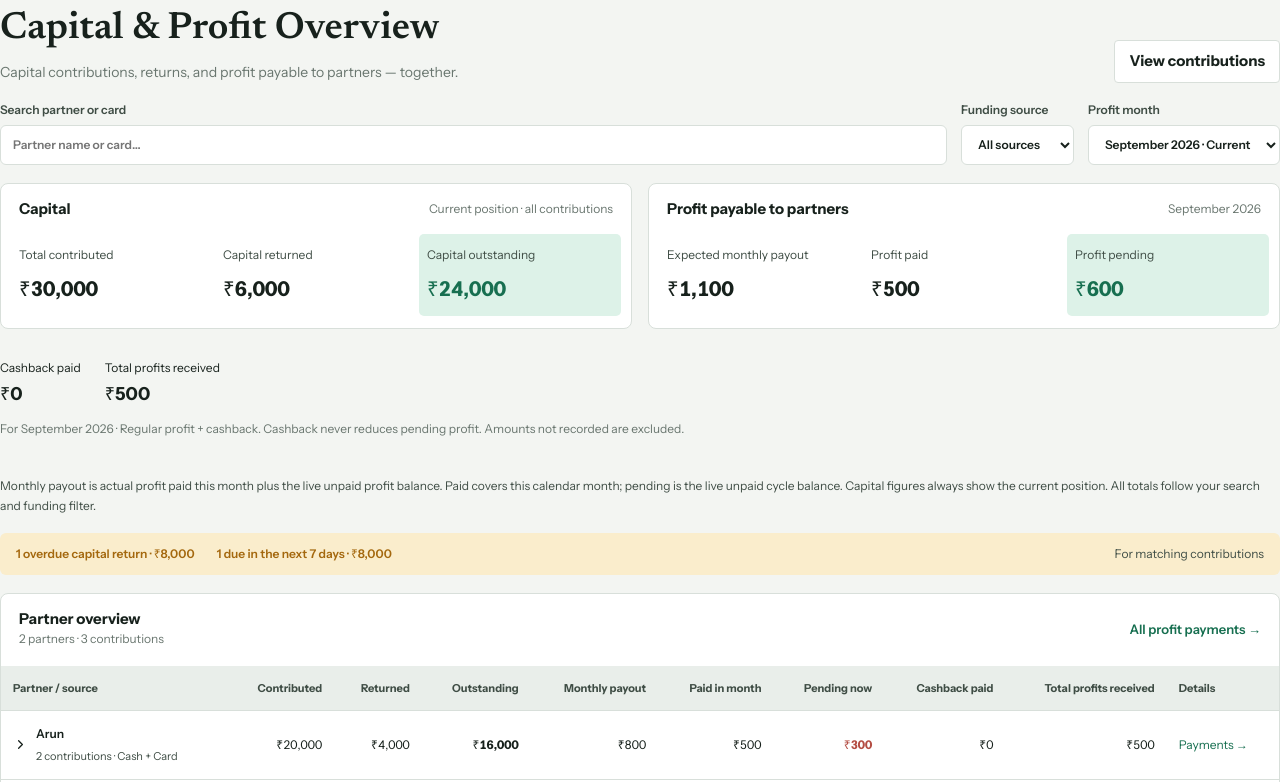
combines capital and profit by partner and keeps source/search totals aligned
Select "Credit card" in the dropdown labelled "Funding source" at (1018, 145), box [961,125,1074,165]
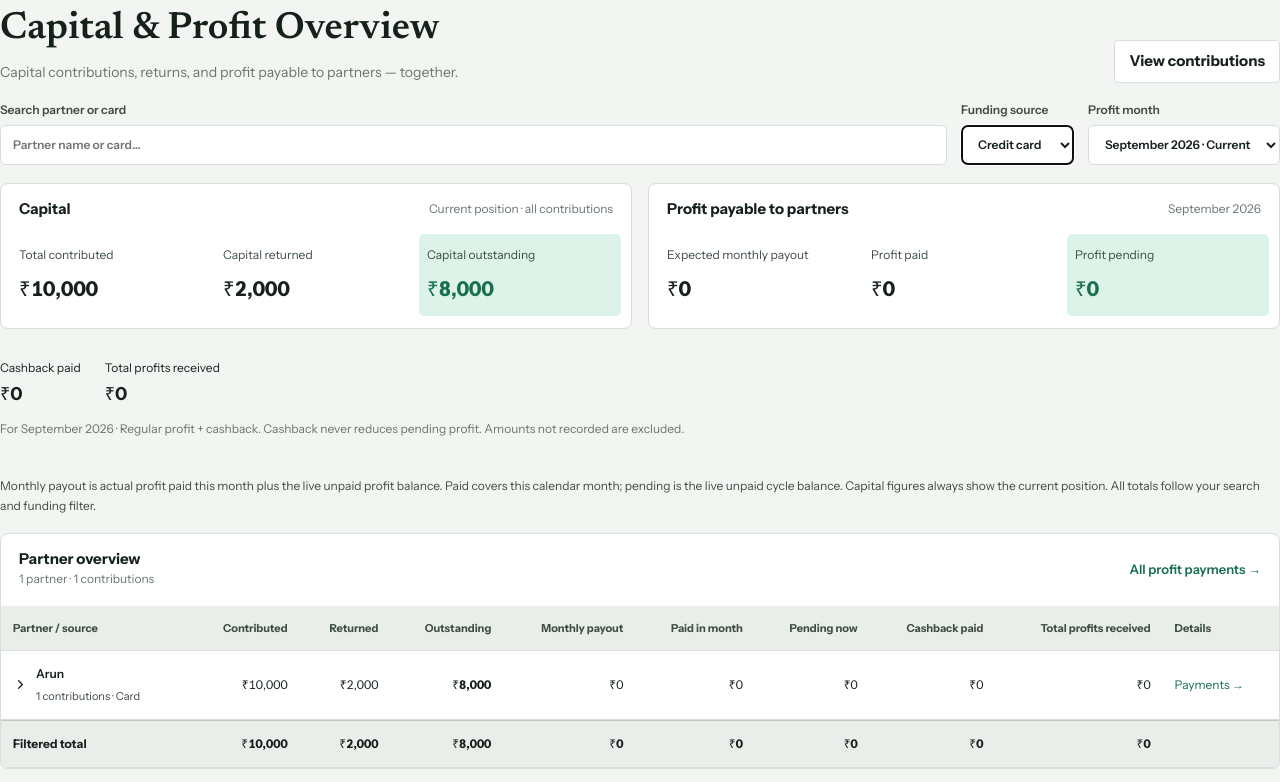
Result: the row "Filtered total ₹10,000 ₹2,000 ₹8,000 ₹0 ₹0 ₹0 ₹0 ₹0" is shown at [1,720,1279,768]
Result: the text "₹8,000" is shown at [427,276,494,301]
Select "All sources" in the dropdown labelled "Funding source" at (1018, 145), box [961,125,1074,165]
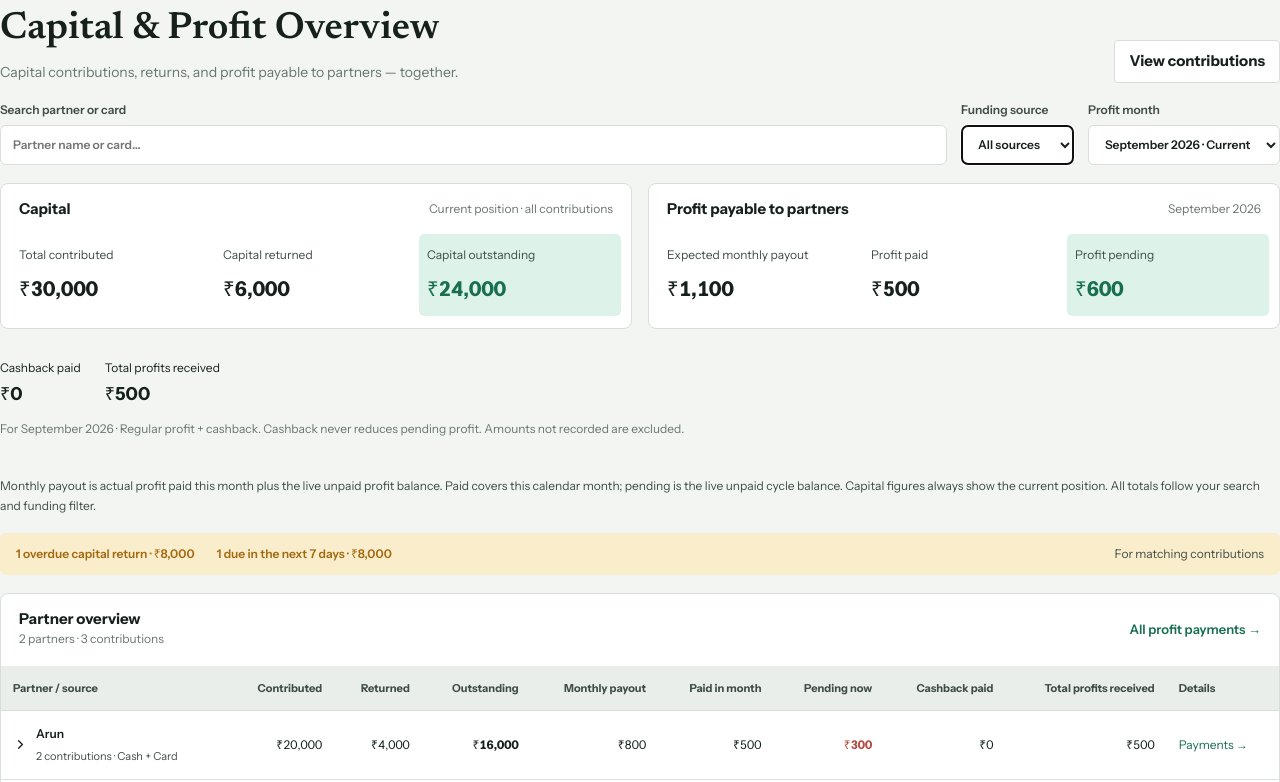
Type "Priya" into the search field labelled "Search partner or card" at (474, 145), box [0,125,947,165]
(page scrolled)
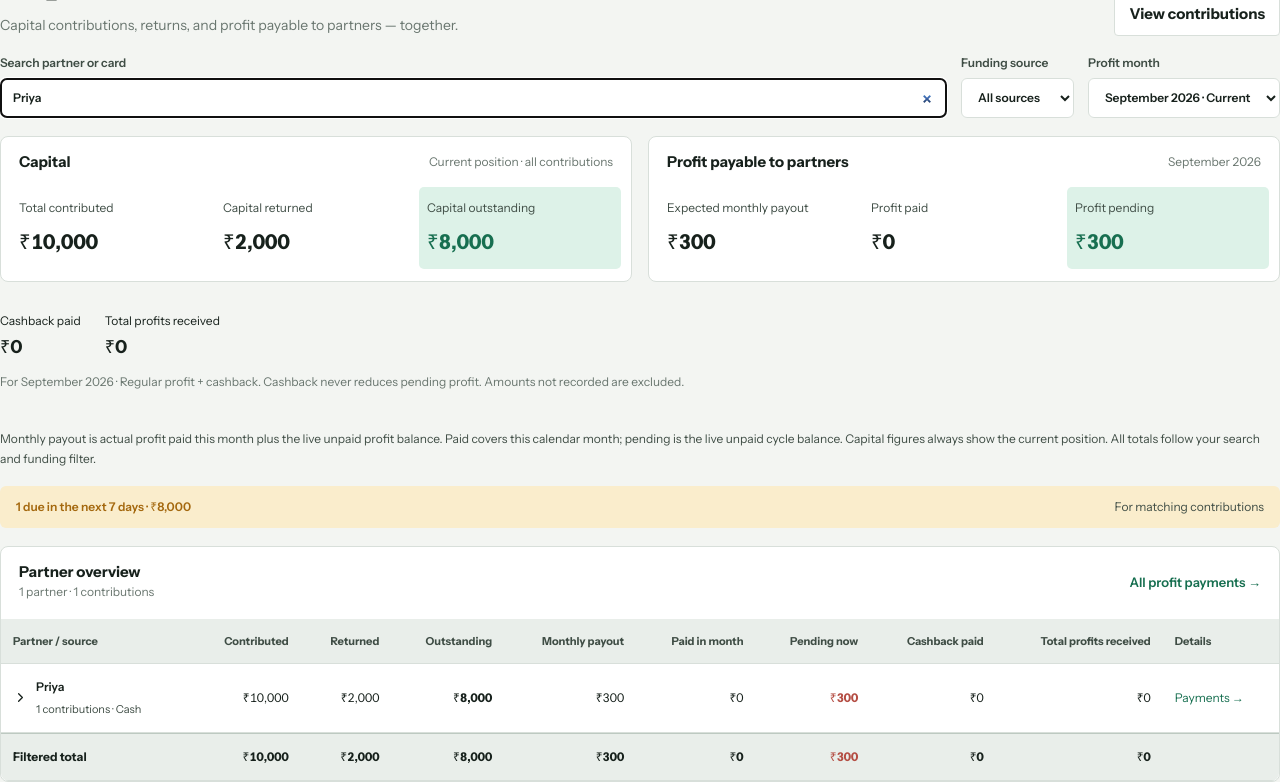
Result: the row "Filtered total ₹10,000 ₹2,000 ₹8,000 ₹300 ₹0 ₹300 ₹0 ₹0" is shown at [1,732,1279,780]
